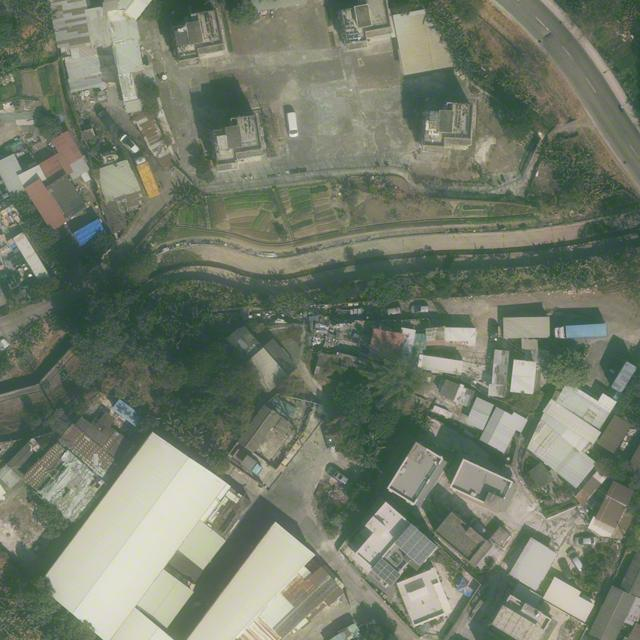panel: (395, 524, 439, 567), (372, 558, 402, 586)
